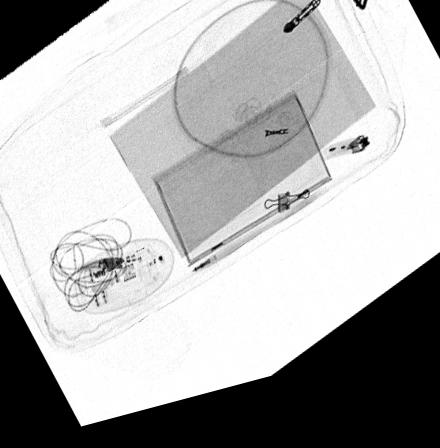Lighter: (318, 152, 372, 181)
